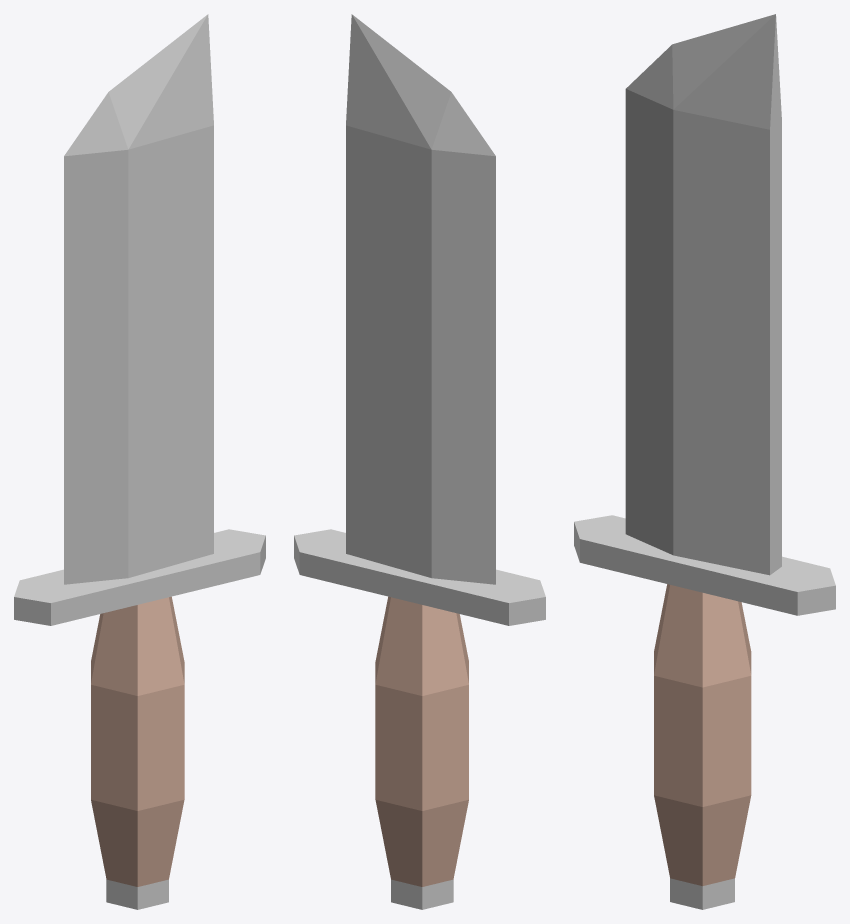
Rendered from Knife.fbx.
3 renders of one model, left to right at view 1: azimuth 30°, elevation 25°; view 2: azimuth 150°, elevation 25°; view 3: azimuth 330°, elevation 25°, orthographic. The views are drawn at different scales.
Visible parts, largest first — view 1: Knife; view 2: Knife; view 3: Knife.
Boxes of the visible parts, x1,y1,x2,y2 form: Knife: (14,14,265,909); Knife: (294,14,545,909); Knife: (574,14,835,909).
Size of the model in its own units: 0.0738 by 0.2419 by 0.0238.
